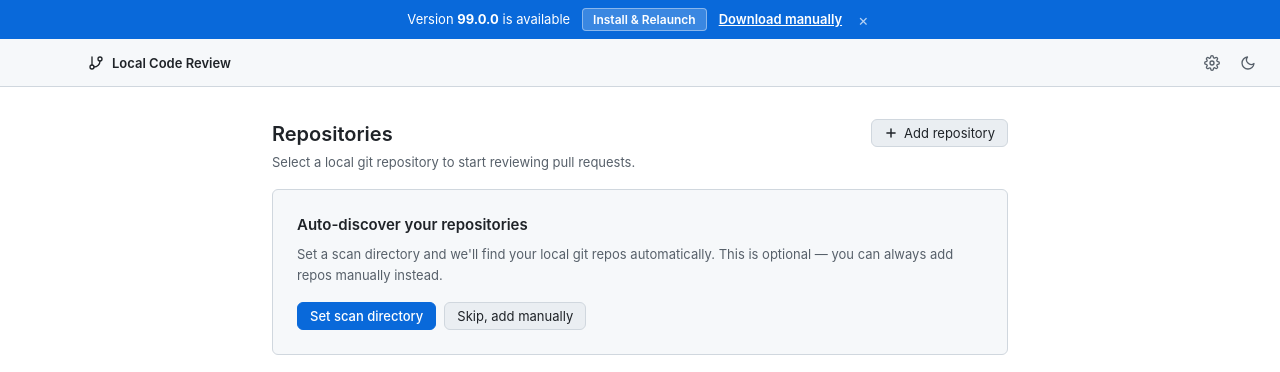
it: update banner › still reports other install errors as failures
The width and height of the screenshot is (1280, 372).
Click the button "Install & Relaunch": (644, 20) [582,8,707,31]
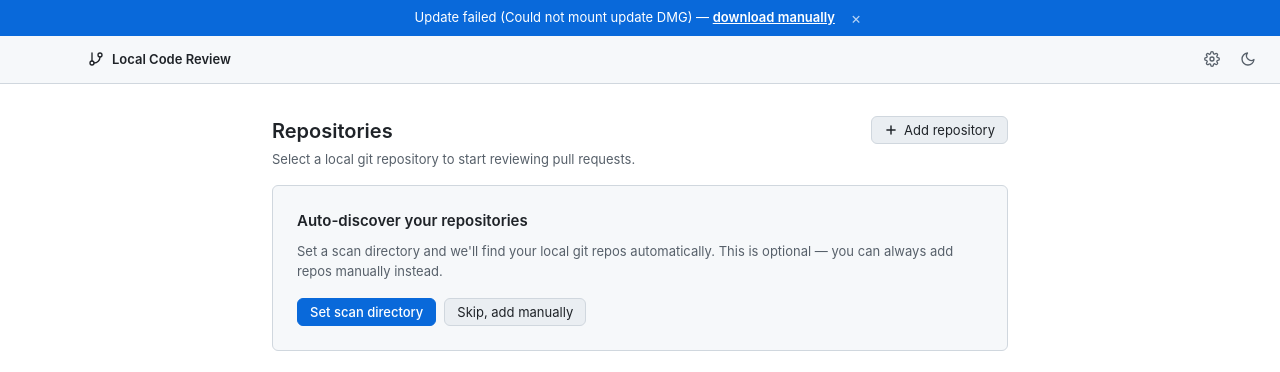
Now the text "Update failed (Could not mount update DMG)" is shown, box [415,8,835,28]
